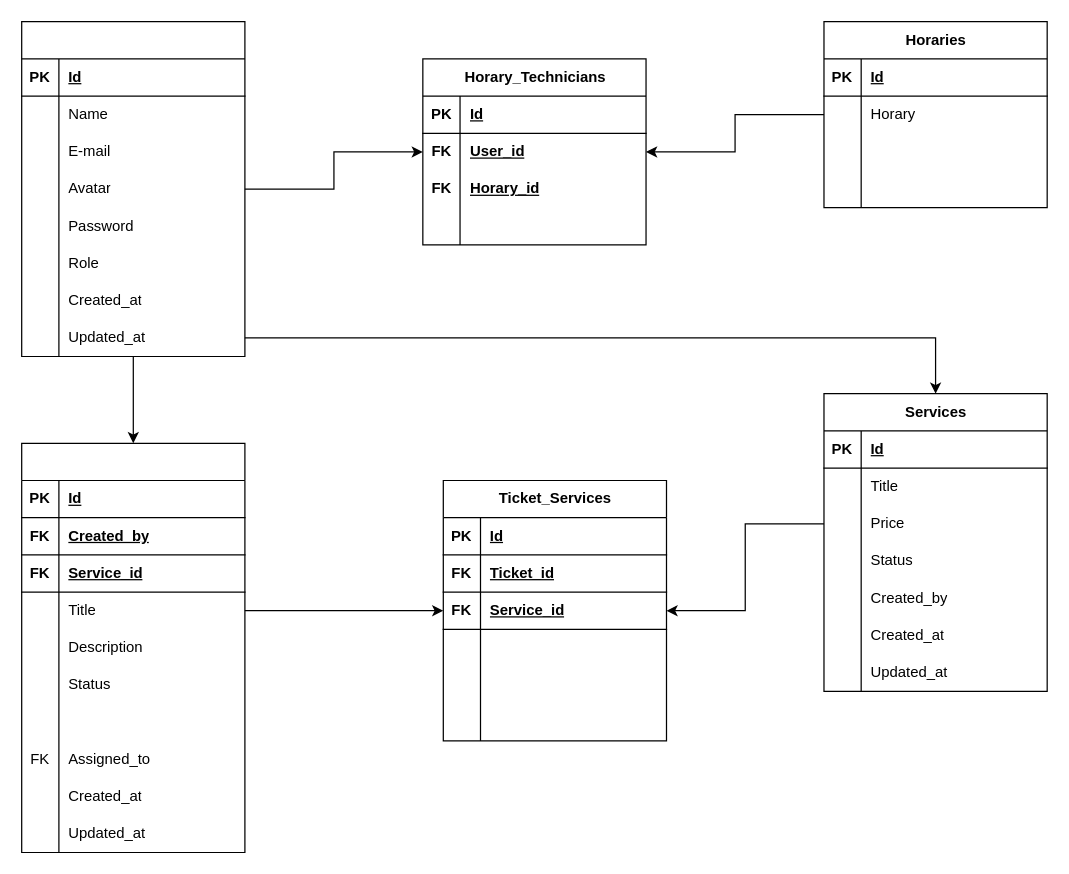
Image size: 1069x874. Some labels were removed from this diagram. Each missing label, with the box of its shape:
Ticket: (20, 442, 245, 852)
User: (20, 20, 245, 356)
